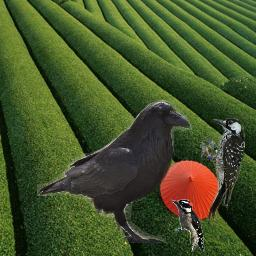Crow: (37, 100, 192, 243)
Woodpecker: (200, 118, 245, 221), (171, 199, 205, 252)
